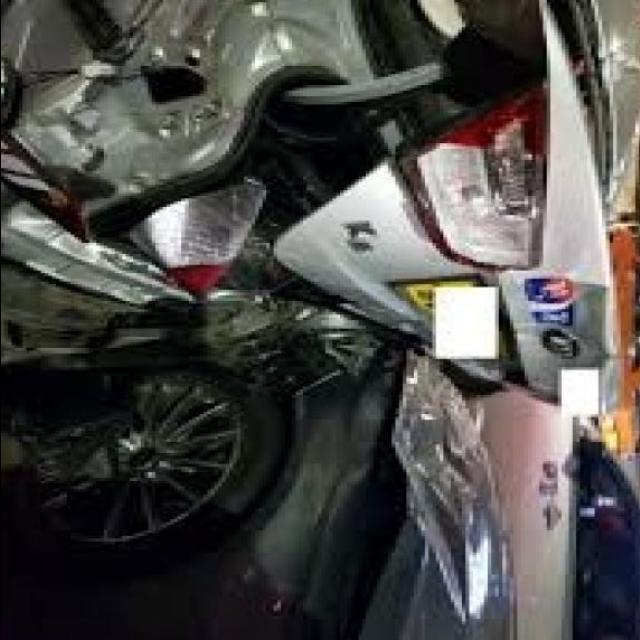accident: (0, 0, 635, 608)
